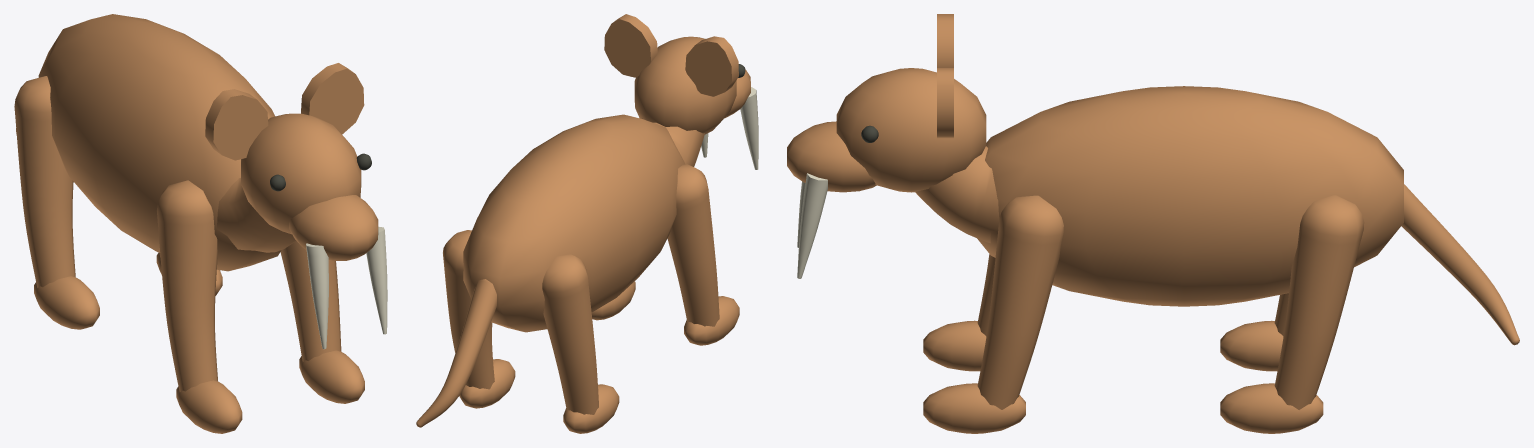
File: dinosaurs-and-prehistoric-life-smilodon-9f5c8637__4916.glb
3 views of the same model, side by side, from view 1: azimuth 30°, elevation 25°; view 2: azimuth 150°, elevation 25°; view 3: azimuth 270°, elevation 25° (orthographic). The views are drawn at different scales.
Visible parts, largest first — view 1: smilodon; view 2: smilodon; view 3: smilodon.
Part boxes in pixels (box(x1,y1,x2,y2)): smilodon: box(14, 14, 387, 433); smilodon: box(416, 14, 758, 433); smilodon: box(787, 14, 1519, 433).
Size of the model in its own units: 0.6248 by 1.24 by 2.3.
